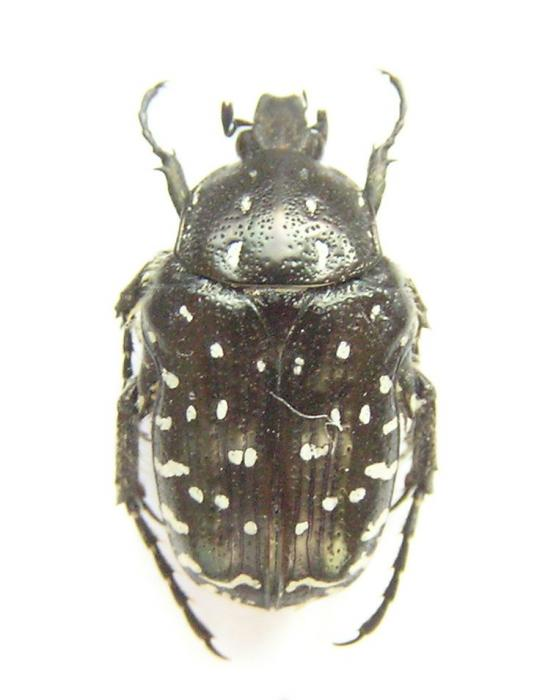Oxythyrea_funesta: (106, 49, 441, 663)
